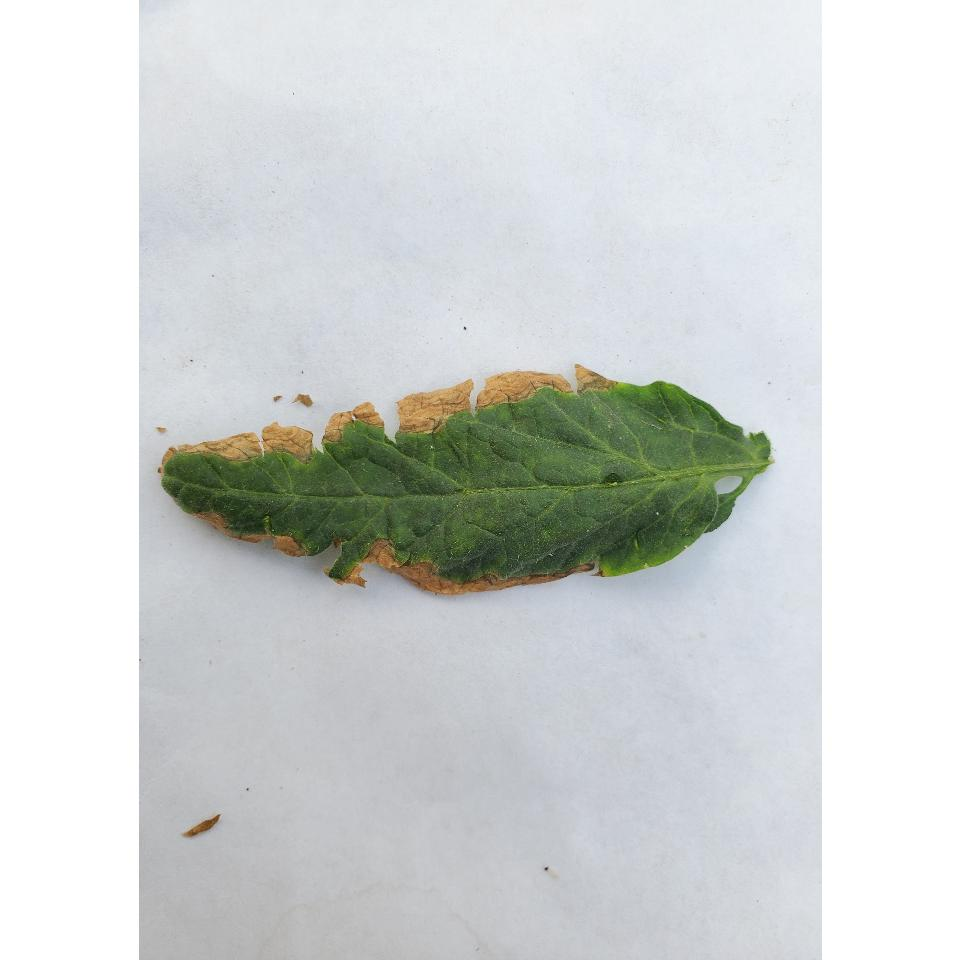tomato_bacterial_blight: (152, 356, 818, 612)
